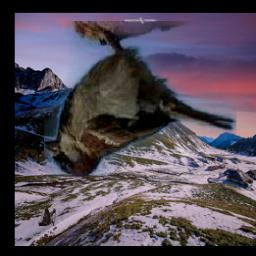Sparrow: (44, 22, 236, 178)
Swallow: (37, 208, 56, 227)
